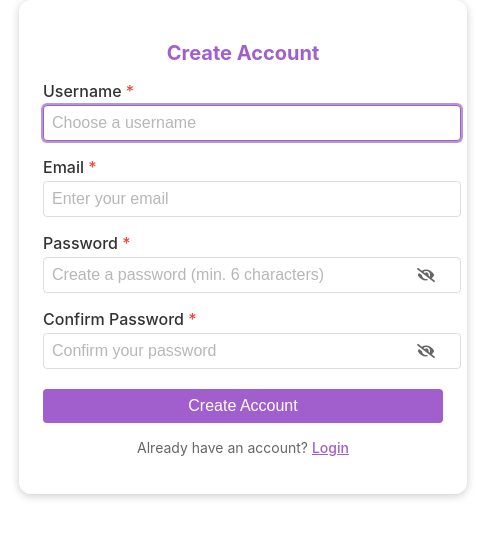
Test: RegisterForm Component › shows validation error for password mismatch
Note: Fill in the form with mismatched passwords
Type "testuser" into the field labelled "Username" at (252, 123), box [43,105,461,141]
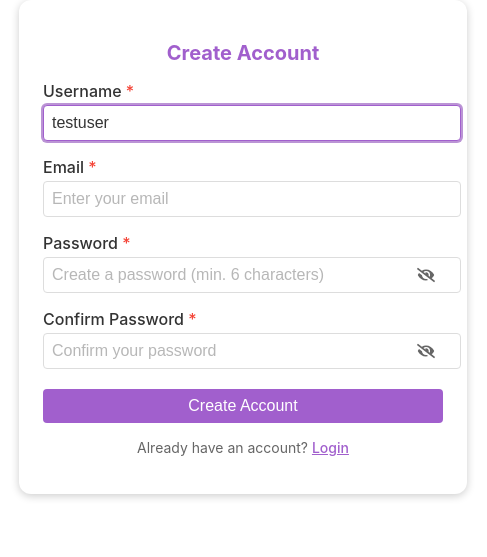
Type "test@example.com" into the field labelled "Email" at (252, 199), box [43,181,461,217]
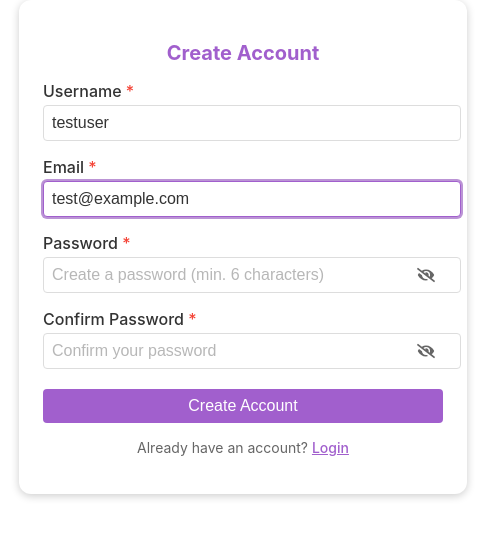
Type "password123" into the password field with placeholder "Create a password (min. 6 characters)" at (252, 275), box [43,257,461,293]
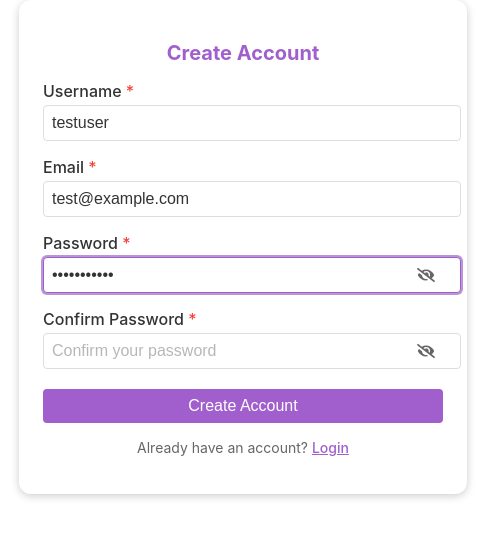
Type "differentpassword" into the password field with placeholder "Confirm your password" at (252, 351), box [43,333,461,369]
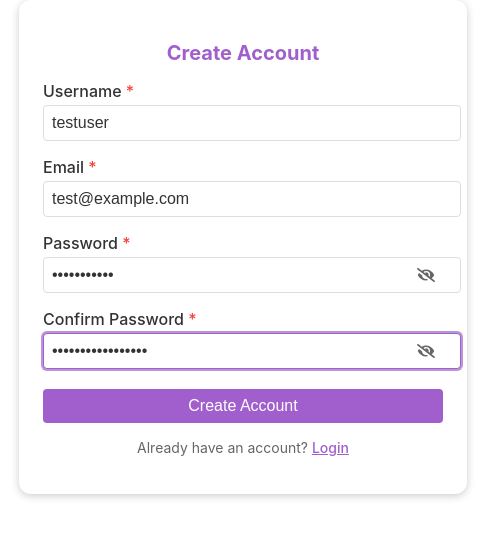
Note: Submit the form
Click the button "Create Account" at (243, 406), box [43,389,443,423]
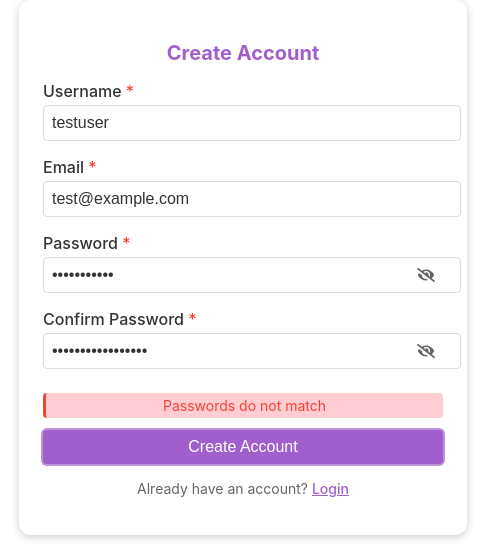
Result: the text "Passwords do not match" is shown at [43,393,443,418]
